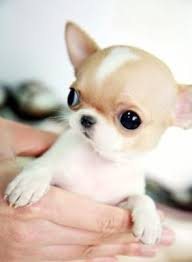chihuahua: (3, 9, 192, 244)
